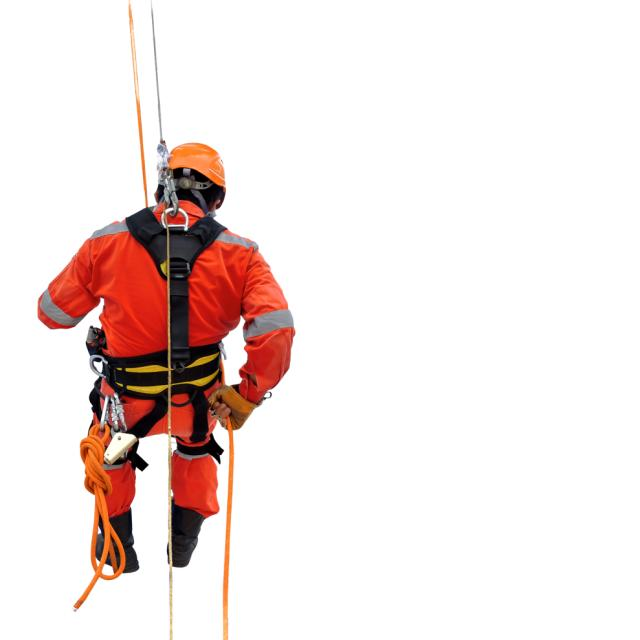harness: (144, 0, 185, 233)
shoes: (162, 492, 207, 571), (86, 519, 142, 572)
vest: (35, 202, 296, 515)
